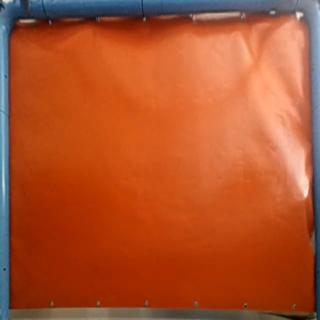Hit-hRxx: (302, 183, 310, 204)
